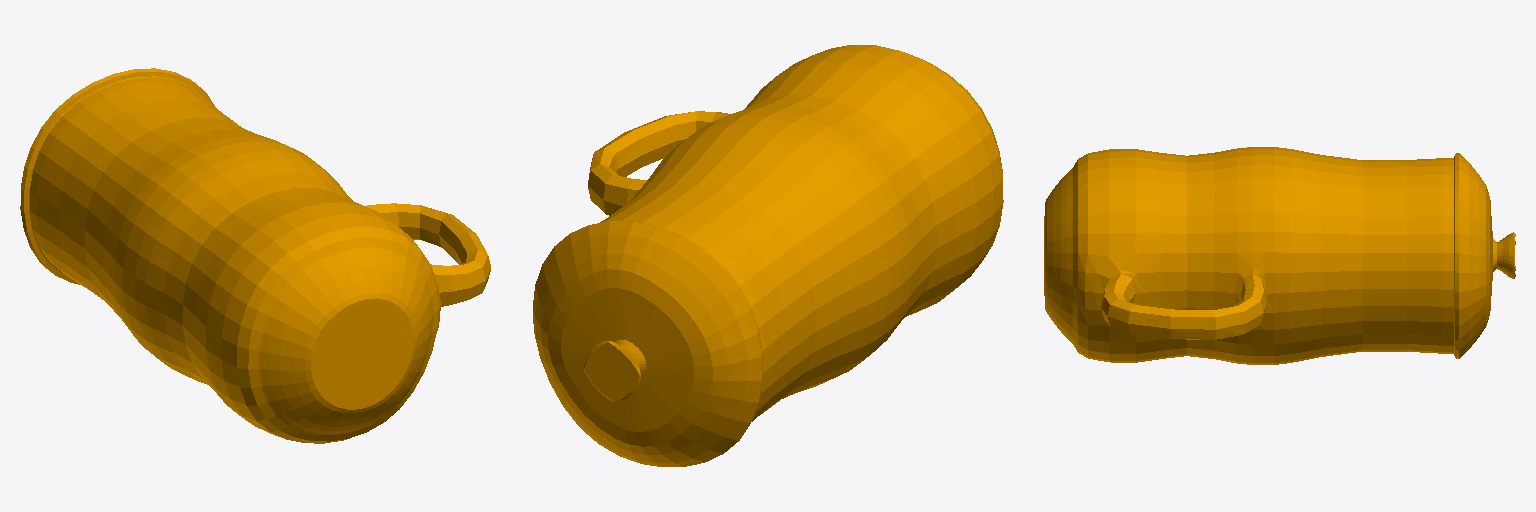
robot.urdf — 171:
<?xml version="1.0" ?>
<robot name="171">
  <link name="body">
    <visual>
      <geometry>
        <mesh filename="../shapes/171.obj"/>
      </geometry>
    </visual>
    <collision>
      <geometry>
        <mesh filename="../shapes/171.obj"/>
      </geometry>
    </collision>
  </link>
</robot>

--- Render facts (derived) ---
Views: 3 orthographic renders of the robot side by side, from view 1: azimuth 30°, elevation 25°; view 2: azimuth 150°, elevation 25°; view 3: azimuth 270°, elevation 25°.
Robot: 171 — 1 links, 0 joints (none); root link body; default pose: every joint at zero.
Visible links, largest first — view 1: body; view 2: body; view 3: body.
Boxes of the visible links, left/top/right/bottom form: body: left=20, top=68, right=490, bottom=443; body: left=533, top=45, right=1003, bottom=466; body: left=1044, top=147, right=1515, bottom=364.
Bounding box of the posed robot: 3.37 × 5.35 × 2.42 m (x, y, z).
Meshes: 1 distinct files referenced, 1 mesh visuals loaded (1 OBJ).